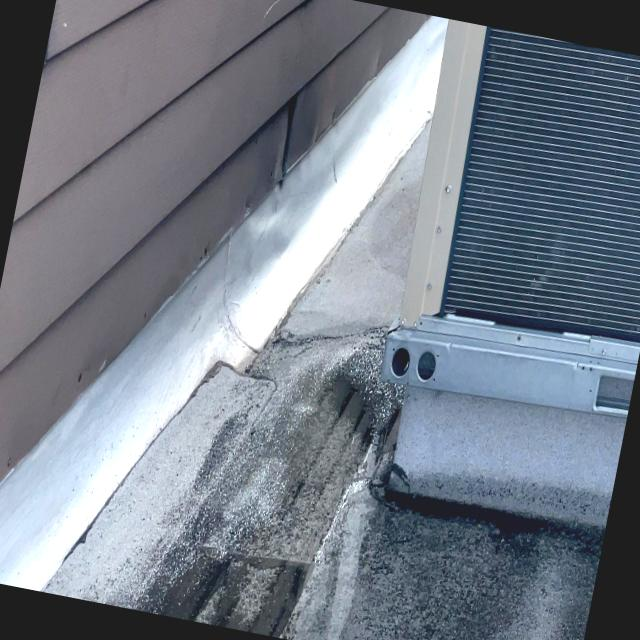RTU: (334, 15, 640, 548)
